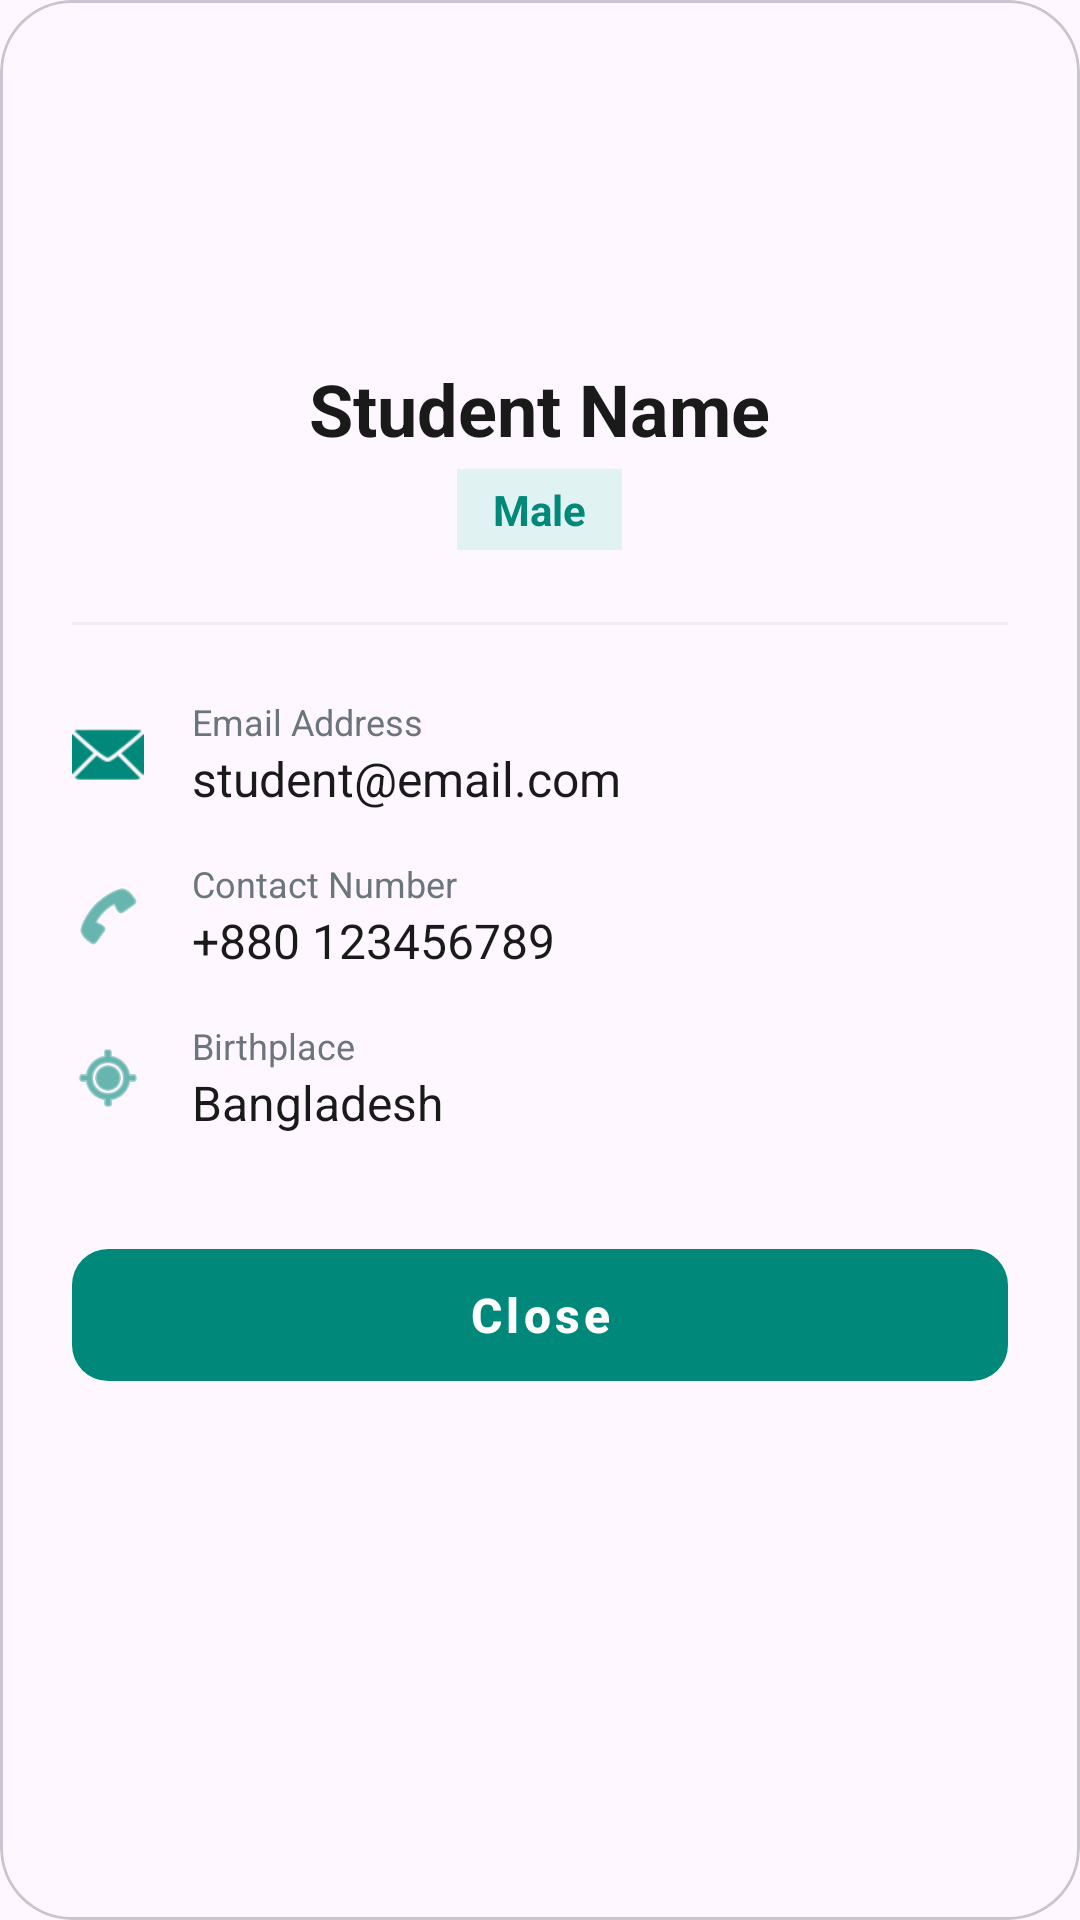

Locate icon controls on the screen. Image size 1080 × 1920, boxes as box=[x1, y1, x2, y2].
call: box=[80, 888, 137, 945]
mylocation: box=[79, 1049, 137, 1107]
